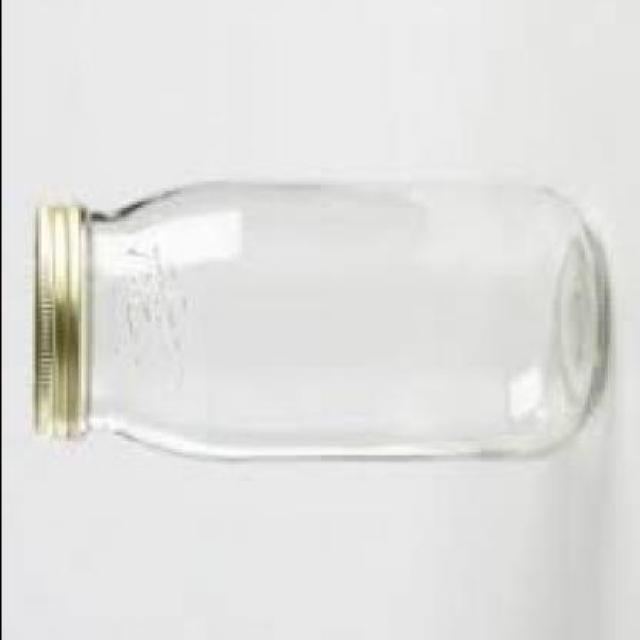GLASS: (71, 182, 603, 464)
METAL: (29, 210, 74, 441)
